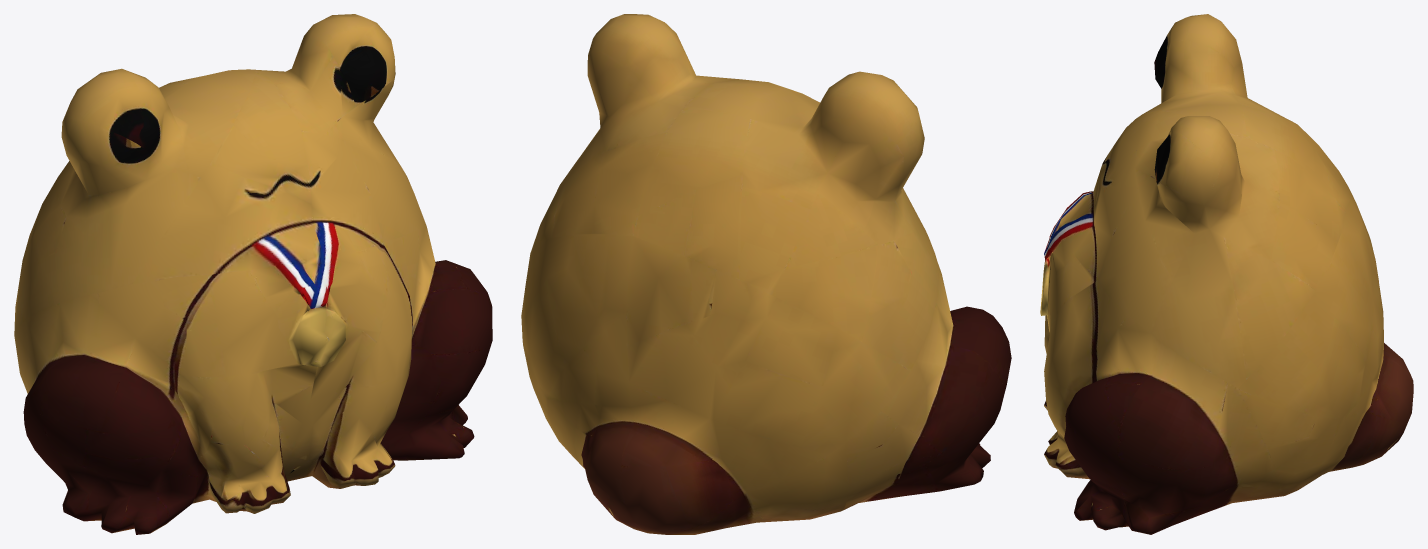
Rendered from podium.glb.
The picture shows the model from 3 angles, left to right: view 1: azimuth 30°, elevation 25°; view 2: azimuth 150°, elevation 25°; view 3: azimuth 270°, elevation 25°; orthographic projection. The views are drawn at different scales.
Parts seen in each view (by area): view 1: mesh_node; view 2: mesh_node; view 3: mesh_node.
Boxes of the visible parts, bbox=[...] form: mesh_node: bbox=[14, 14, 492, 534]; mesh_node: bbox=[521, 14, 1011, 534]; mesh_node: bbox=[1040, 14, 1413, 534].
Size of the model in its own units: 1.9 by 1.66 by 1.48.
1 material, 1 textured.
